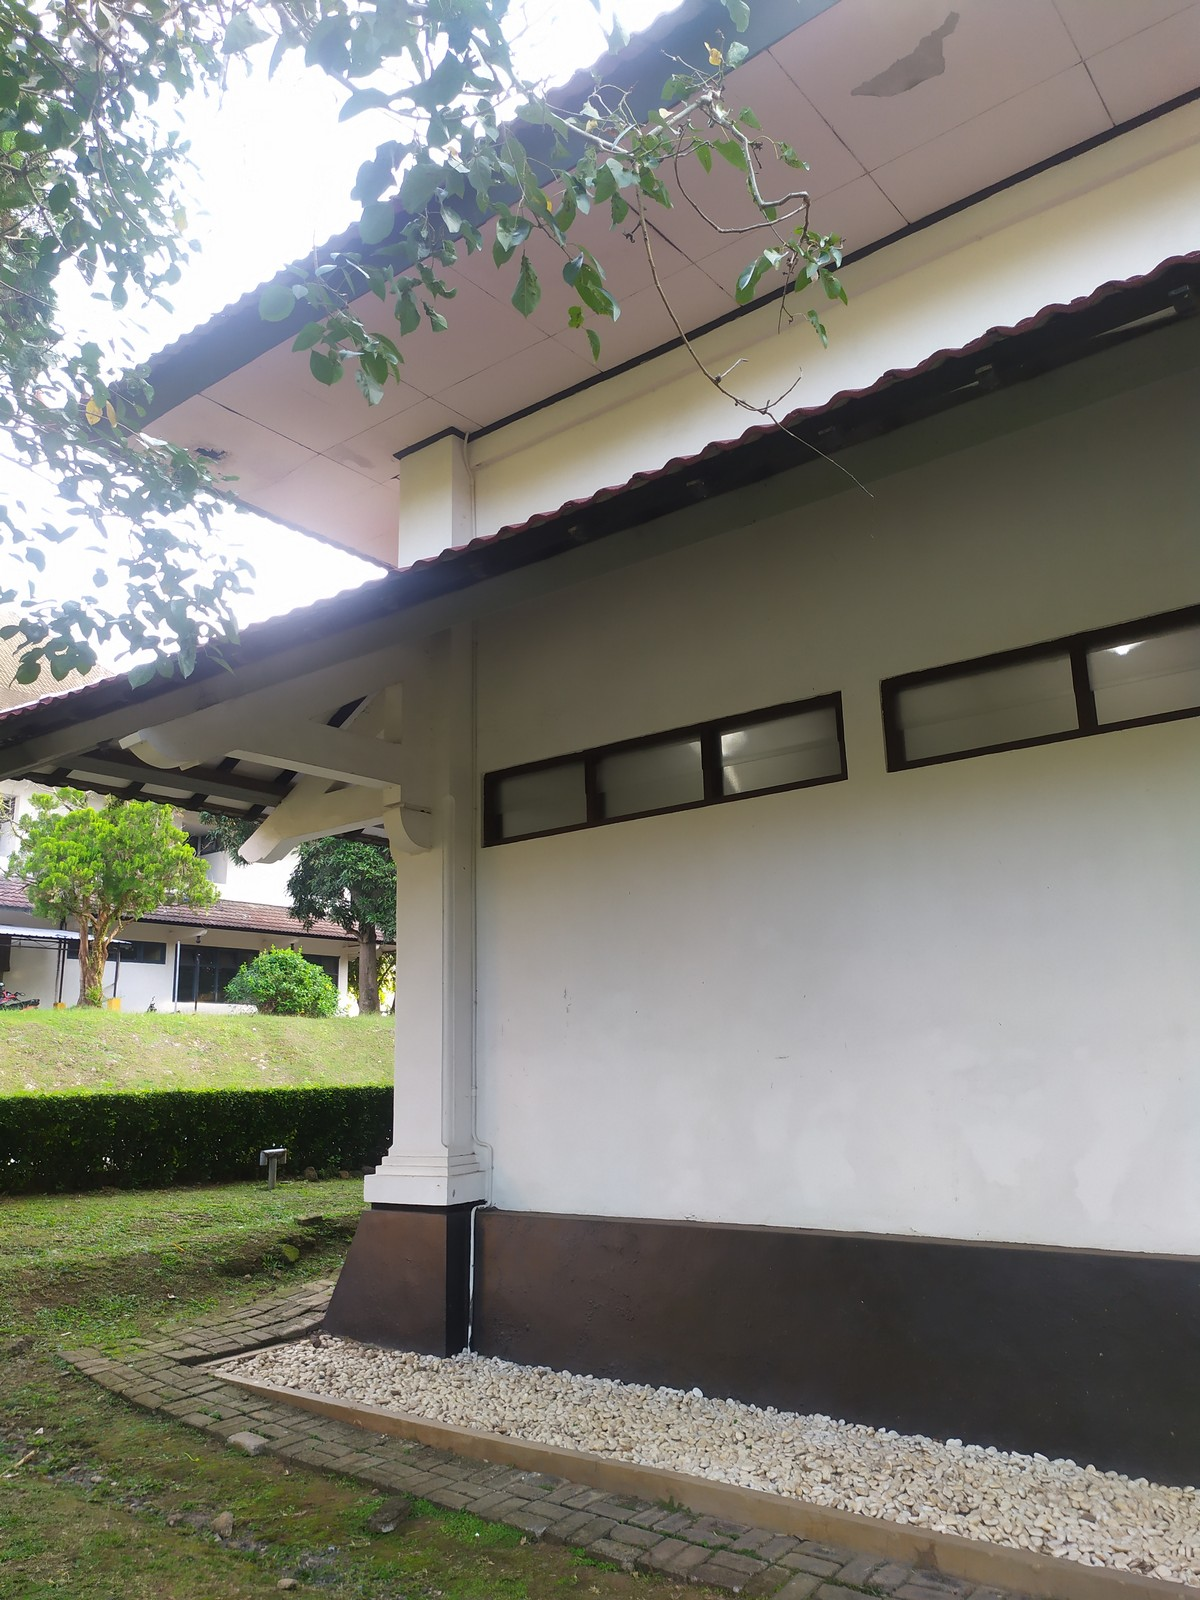concrete beam: (251, 717, 405, 796)
concrete column: (382, 738, 487, 1213)
